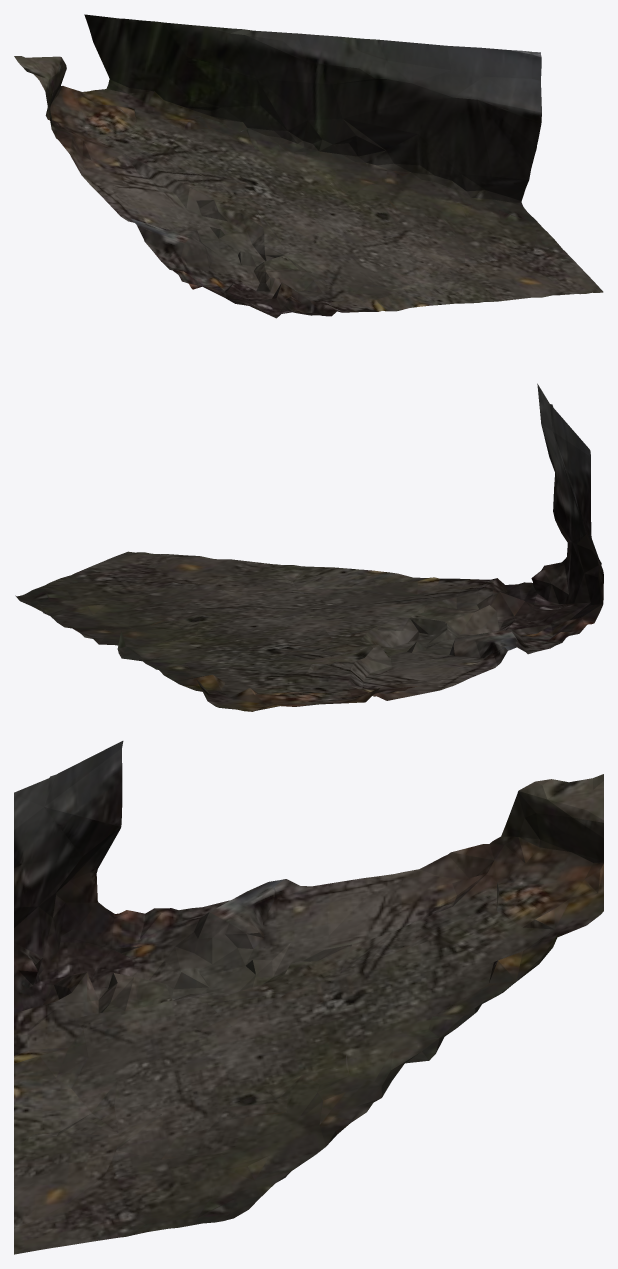
The picture shows the model from 3 angles, top to bottom: view 1: azimuth 30°, elevation 25°; view 2: azimuth 150°, elevation 25°; view 3: azimuth 270°, elevation 25°; orthographic projection. The views are drawn at different scales.
Size of the model in its own units: 1.67 by 0.8298 by 1.67.
3 materials, 3 textured.
